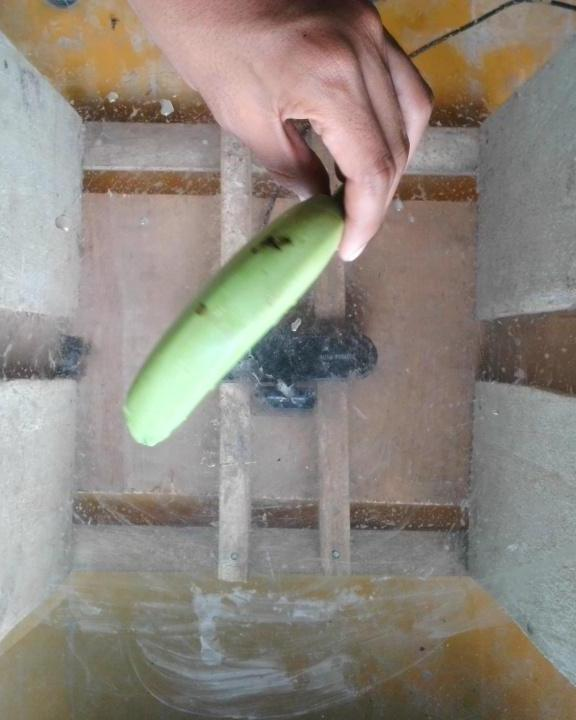CLASS B: (112, 192, 356, 462)
Class A: (247, 225, 299, 257), (183, 292, 216, 325)
